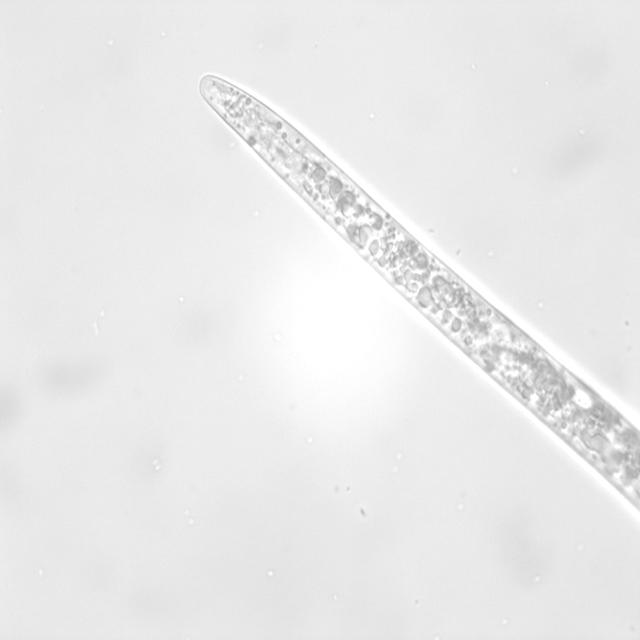Pratylenchus: (198, 64, 640, 524)
